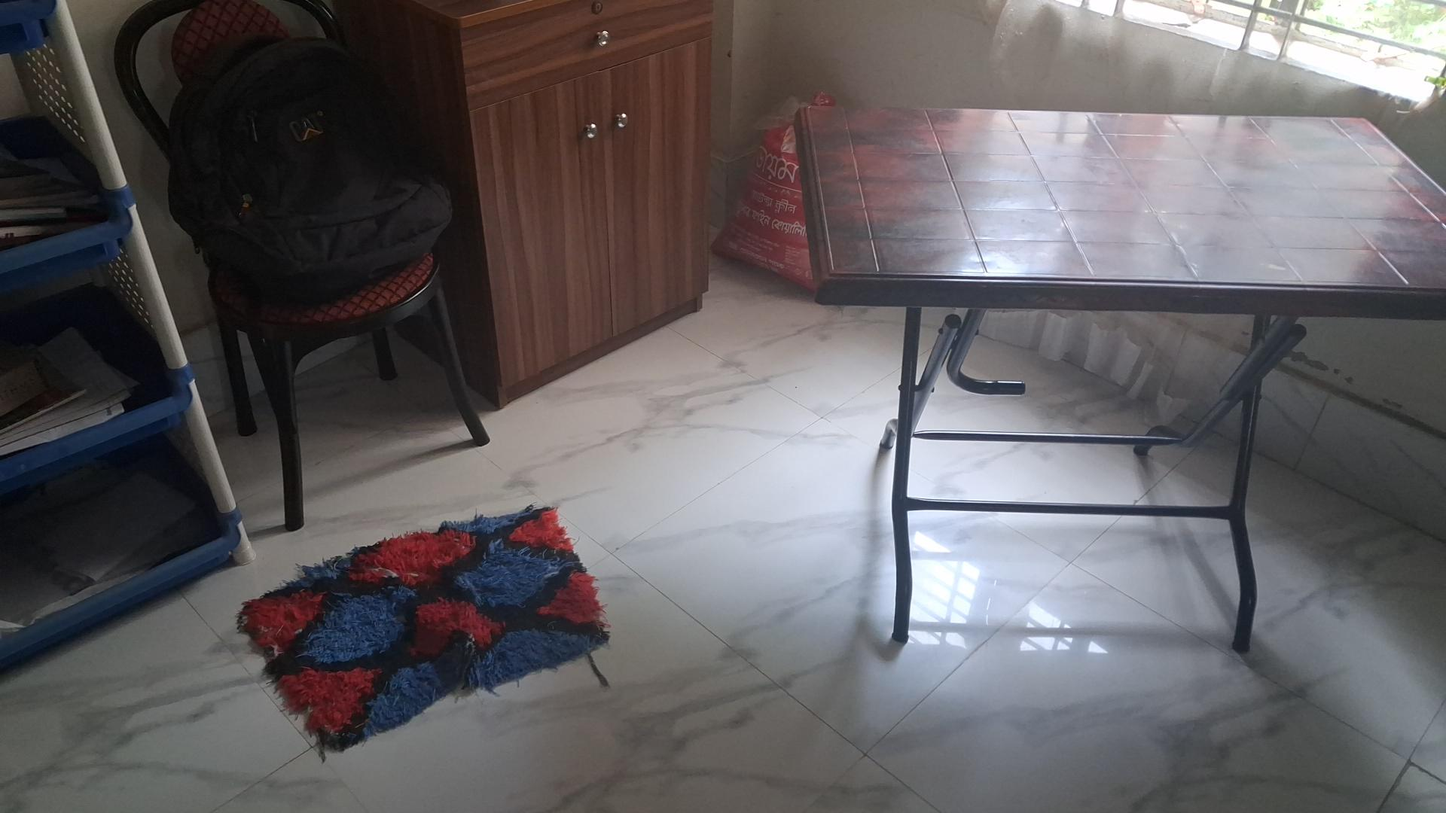Bag: (167, 29, 445, 300), (715, 106, 865, 283)
Chair: (108, 3, 489, 535)
Floor Mat: (239, 504, 613, 753)
Rack: (0, 5, 254, 689)
Table: (799, 109, 1446, 649)
